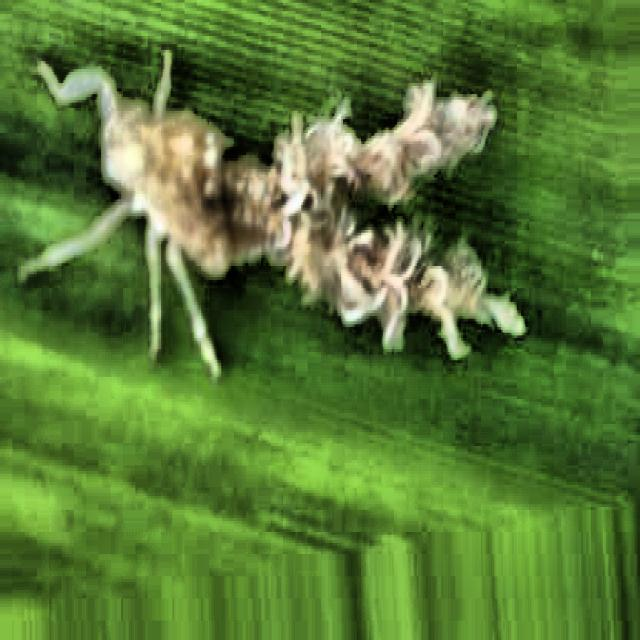Pyrilla-perpusilla: (3, 0, 511, 398)
